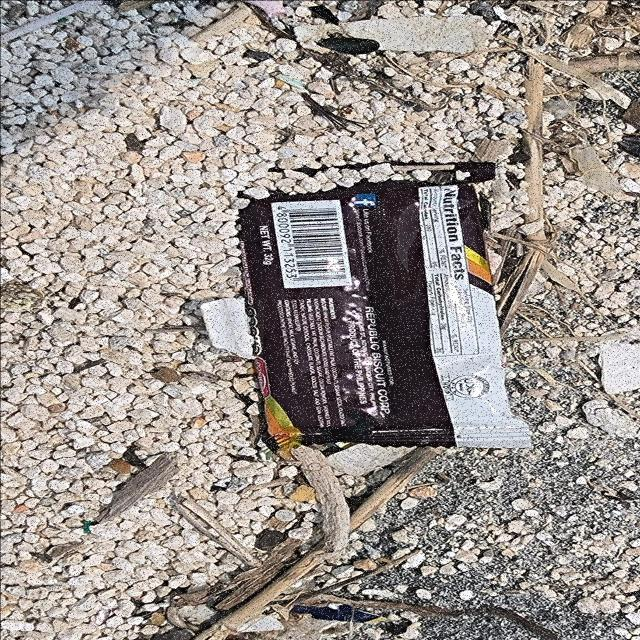plastic_waste: (238, 162, 534, 451)
